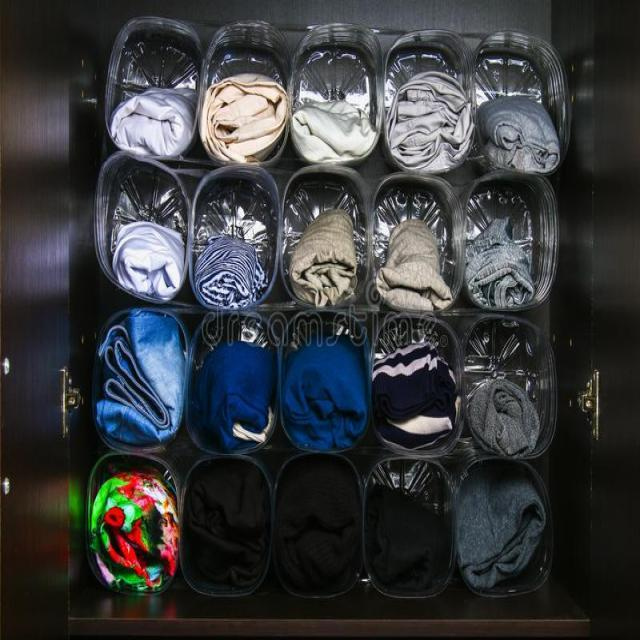clothes: (121, 68, 532, 604)
